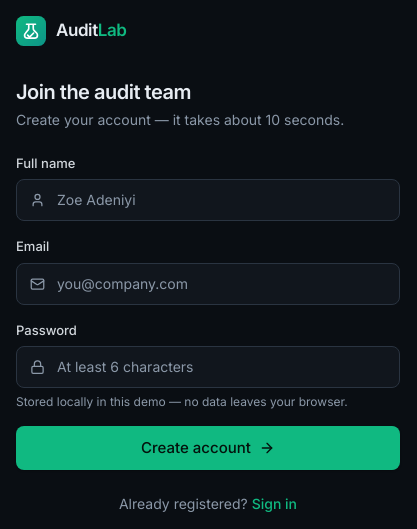
Test: signup with email confirmation › asks the learner to confirm instead of signing them in
The width and height of the screenshot is (417, 529).
In the field labelled "Full name": point(208, 200) [16,179,400,221], type "Pending User"
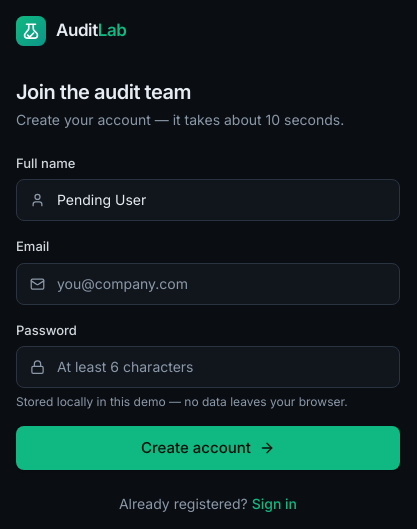
In the field labelled "Email": point(208, 284) [16,263,400,305], type "pending@example.com"
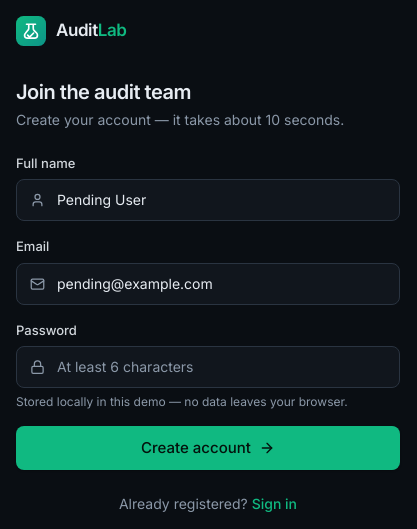
In the password field labelled "Password": point(208, 367) [16,346,400,388], type "pw123456"
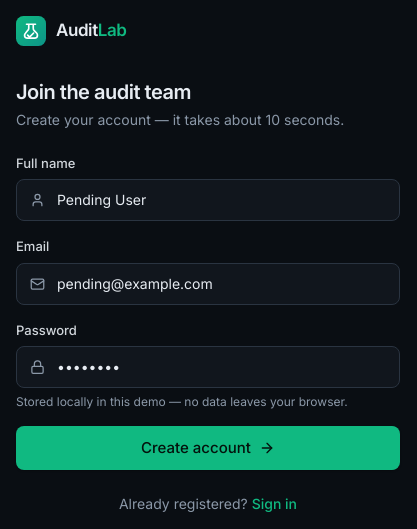
Click the button "Create account": point(208, 448) [16,426,400,470]
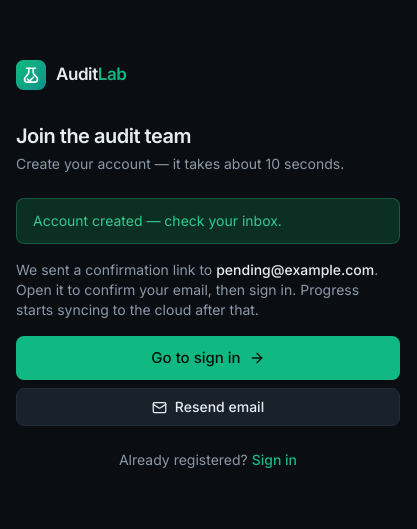
Expected: the text "Account created — check your inbox." is shown, [33,212,282,229]
Expected: the text "pending@example.com" is shown, [216,261,374,278]
Expected: the button "Go to sign in" is shown, [16,336,400,380]
Click the button "Resend email": point(208, 407) [16,388,400,426]
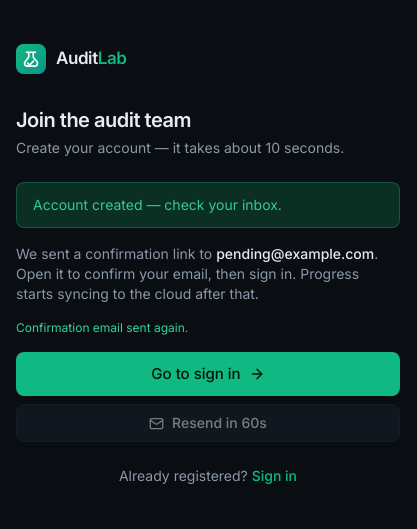
Expected: the text "Confirmation email sent again." is shown, [16,320,188,335]
